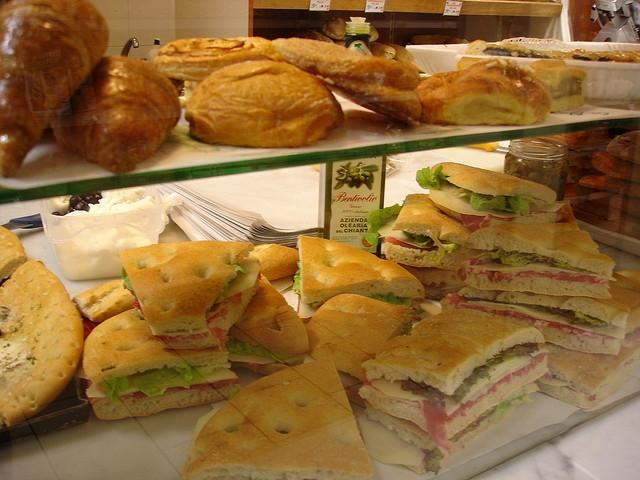lettuce: (134, 363, 202, 397), (402, 232, 470, 264), (224, 334, 292, 364), (366, 204, 402, 246), (214, 264, 248, 303), (494, 394, 534, 424), (102, 375, 130, 405), (416, 164, 448, 190), (468, 193, 506, 211), (501, 252, 548, 266), (367, 294, 412, 306), (574, 311, 606, 326), (292, 261, 301, 298), (121, 266, 134, 290), (227, 386, 241, 402), (472, 369, 490, 380)
